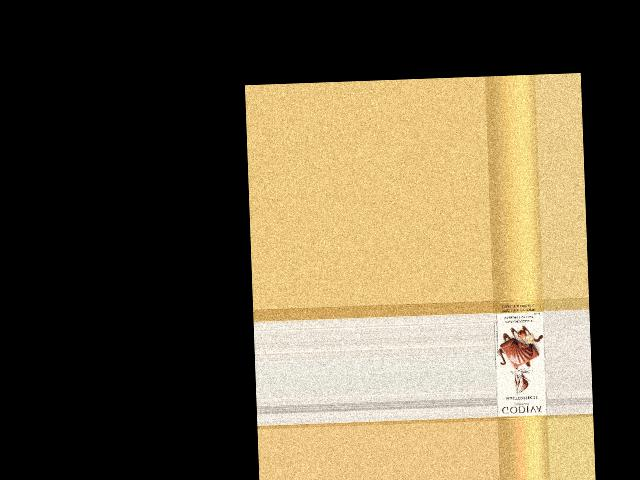chocolate: (493, 299, 547, 420)
